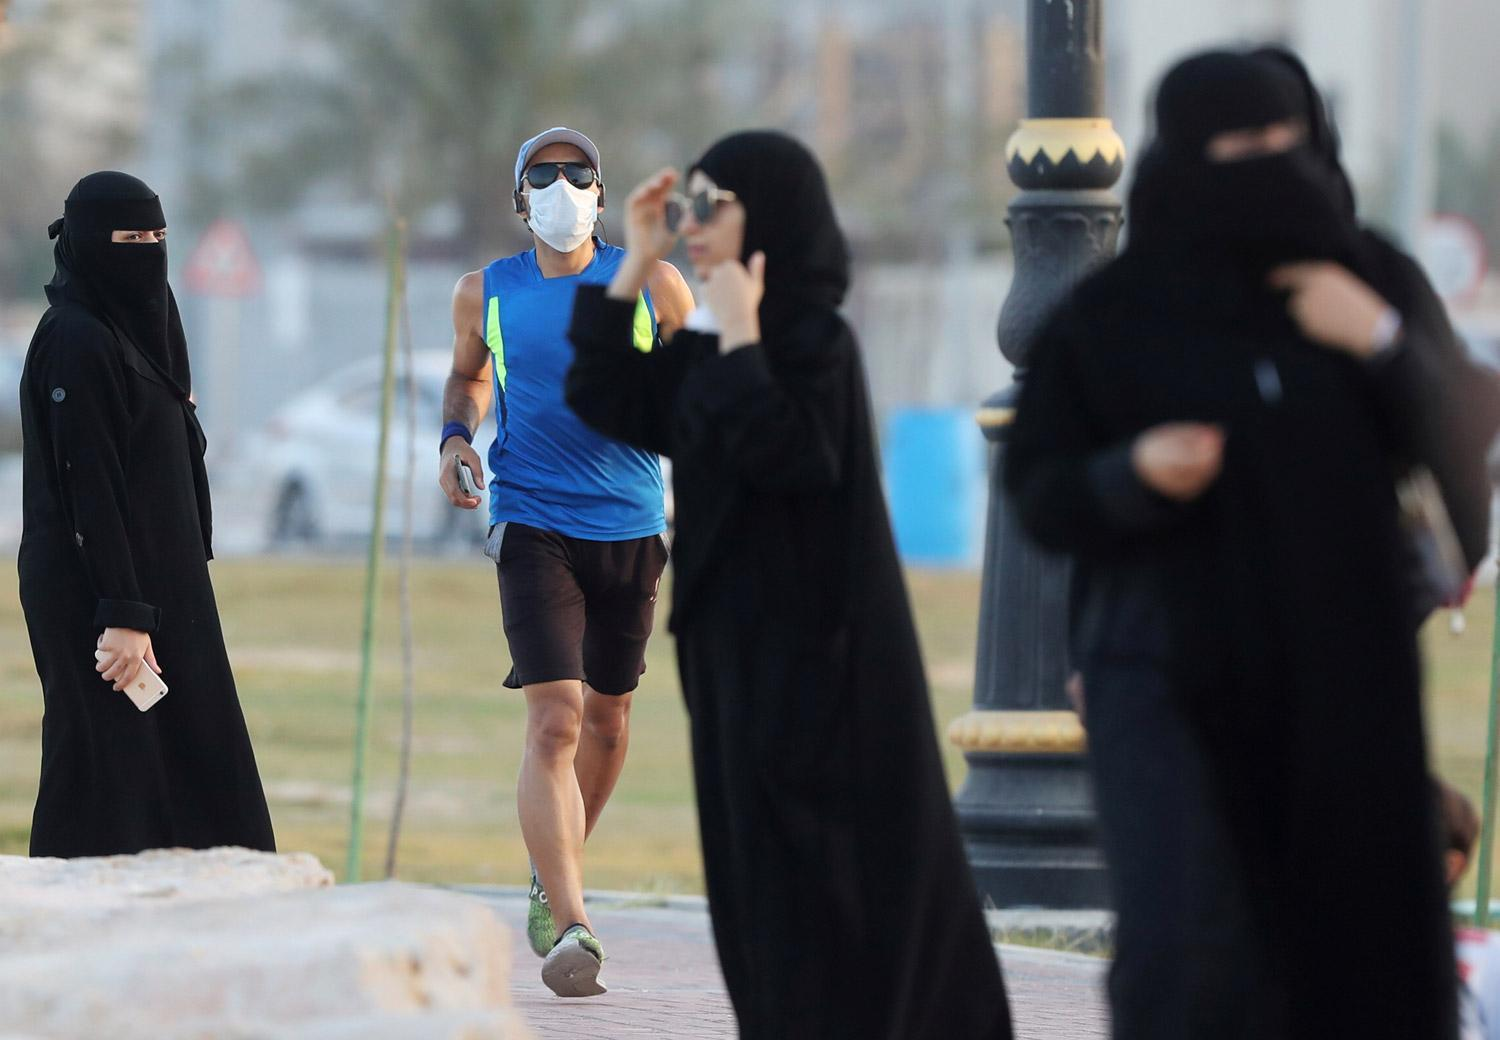Person: (1032, 78, 1473, 1040), (637, 161, 932, 1031), (455, 143, 667, 1002), (8, 167, 273, 843)
